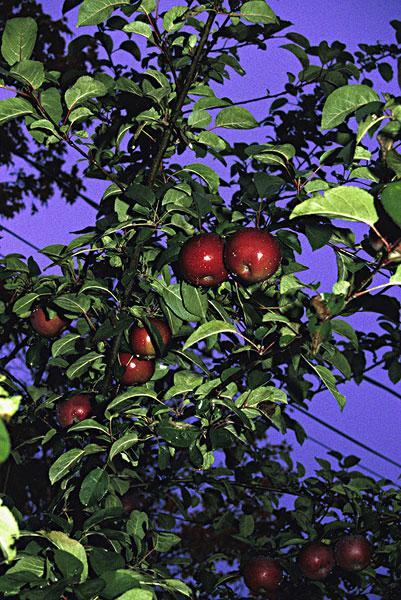apple: (227, 229, 280, 284), (177, 233, 228, 290), (29, 304, 71, 338), (334, 536, 373, 572), (243, 557, 282, 593), (296, 542, 335, 578), (117, 350, 153, 386), (135, 323, 171, 356), (57, 396, 91, 428)
